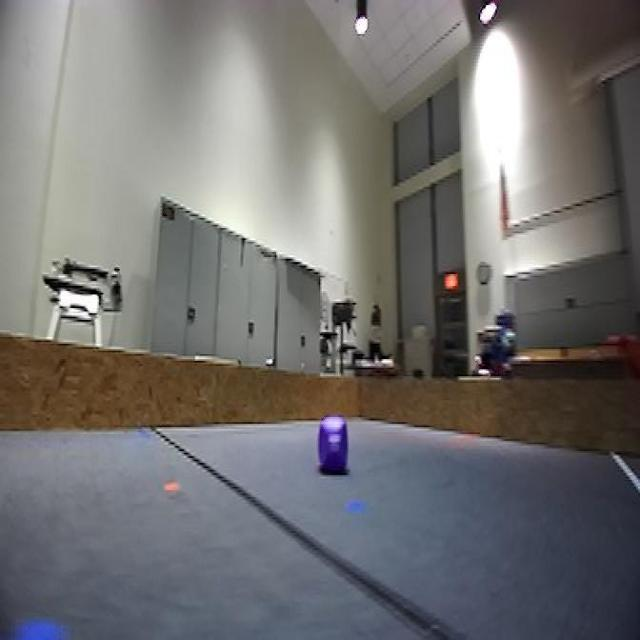frc_cube: (316, 421, 352, 478)
